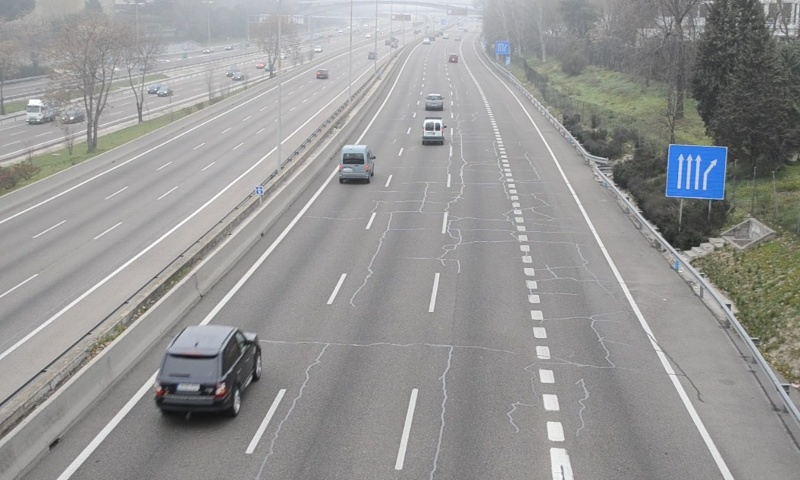car: (156, 326, 259, 416), (423, 92, 444, 110)
van: (340, 144, 375, 182), (421, 116, 444, 144)
